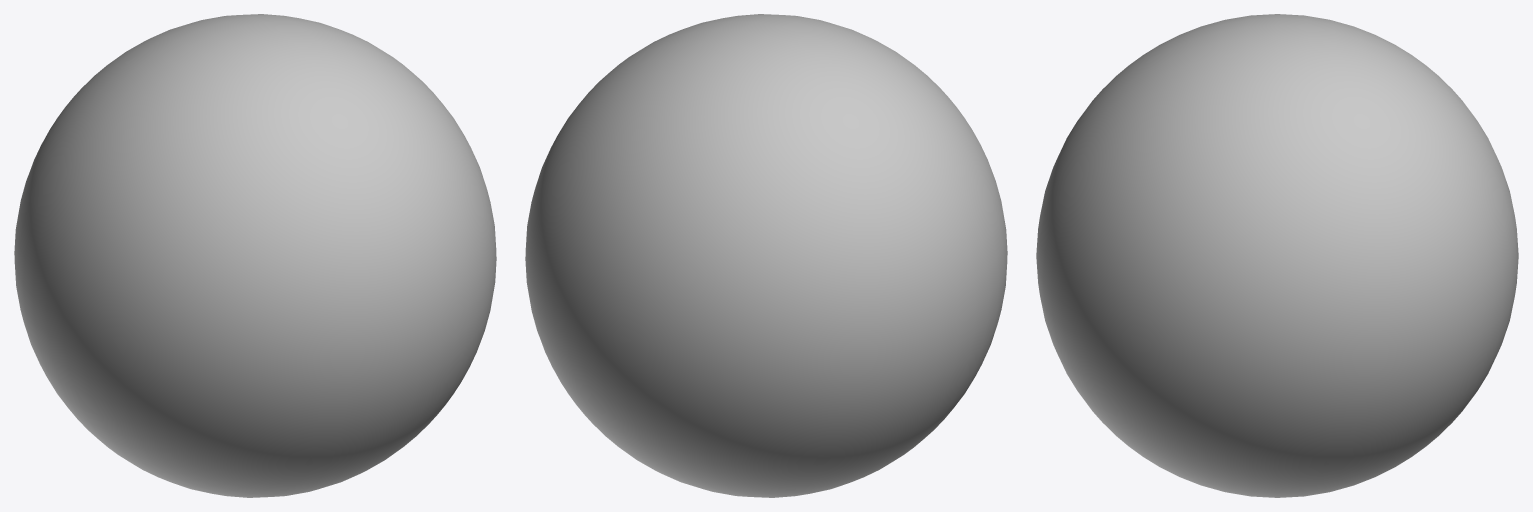
The picture shows the model from 3 angles, left to right: view 1: azimuth 30°, elevation 25°; view 2: azimuth 150°, elevation 25°; view 3: azimuth 270°, elevation 25°; orthographic projection.
Visible parts, largest first — view 1: mesh_id27; view 2: mesh_id27; view 3: mesh_id27.
Boxes of the visible parts, left/top/right/bottom form: mesh_id27: left=14, top=14, right=496, bottom=497; mesh_id27: left=525, top=14, right=1007, bottom=497; mesh_id27: left=1036, top=14, right=1518, bottom=497.
Size of the model in its own units: 0.3279 by 0.3293 by 0.3279.
1 material, 1 textured.
